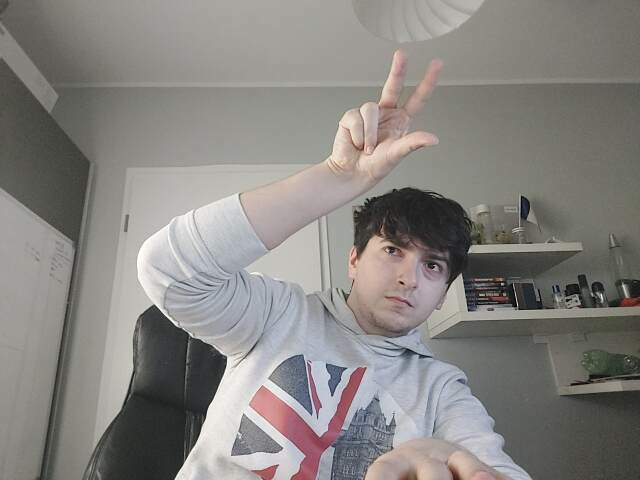no: (331, 49, 445, 177)
